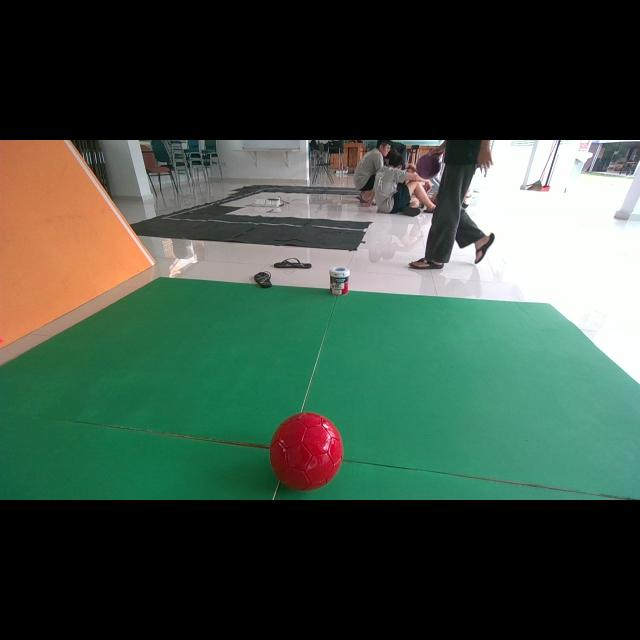P: (416, 154, 440, 179)
R: (270, 412, 344, 490)
